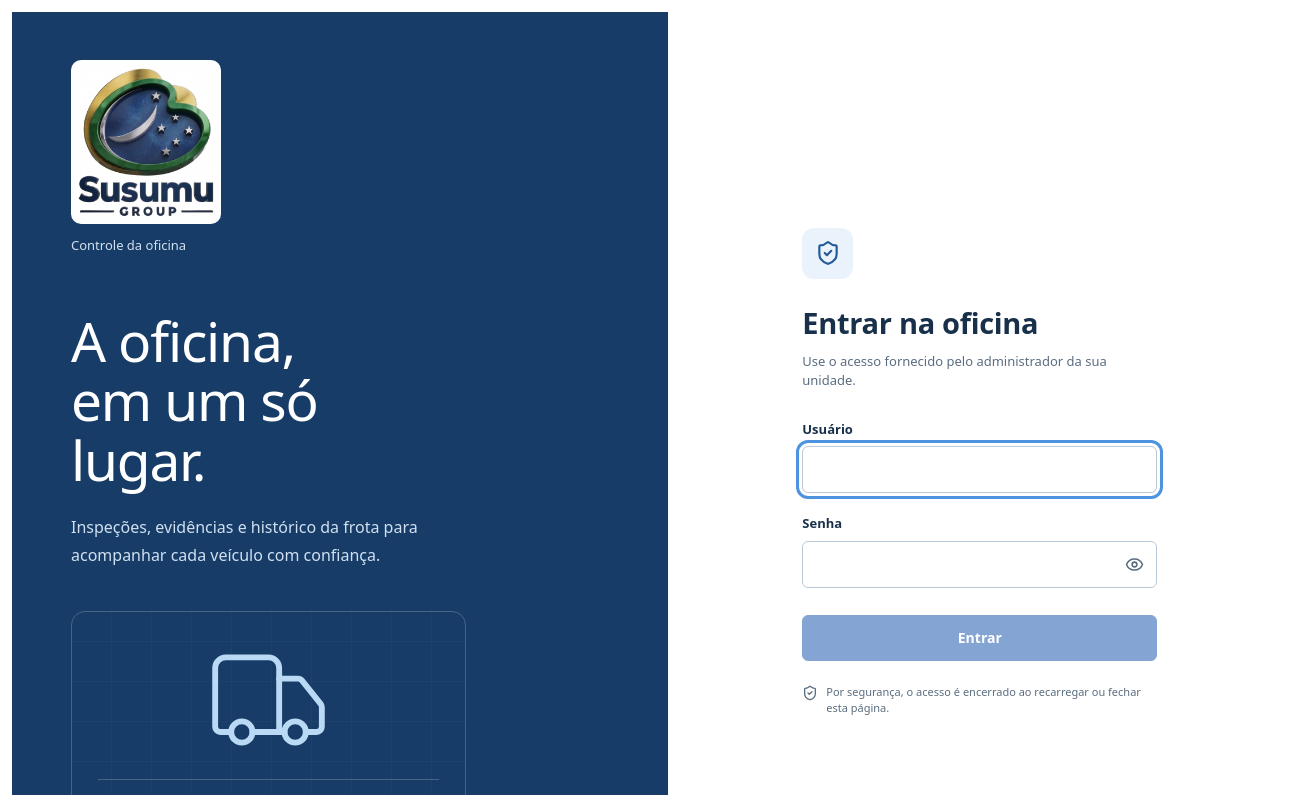
Test: correction discovery › warns an Office reader about a correction outside the newest hundred vehicle records
This screenshot has width=1304, height=795.
Type "office" into the field labelled "Usuário" at point(980, 470), box [802,446,1157,493]
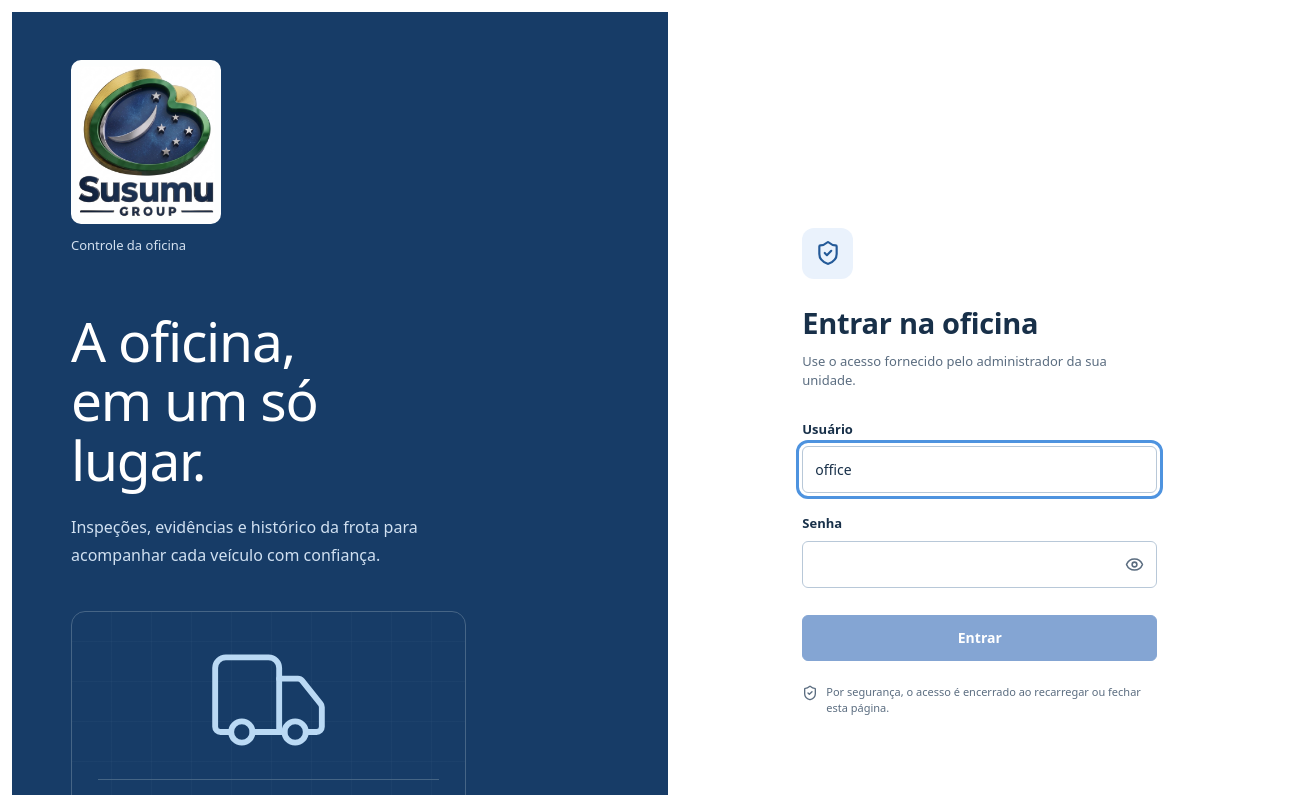
Type "test-only-password" into the password field labelled "Senha" at point(980, 564), box [802,541,1157,588]
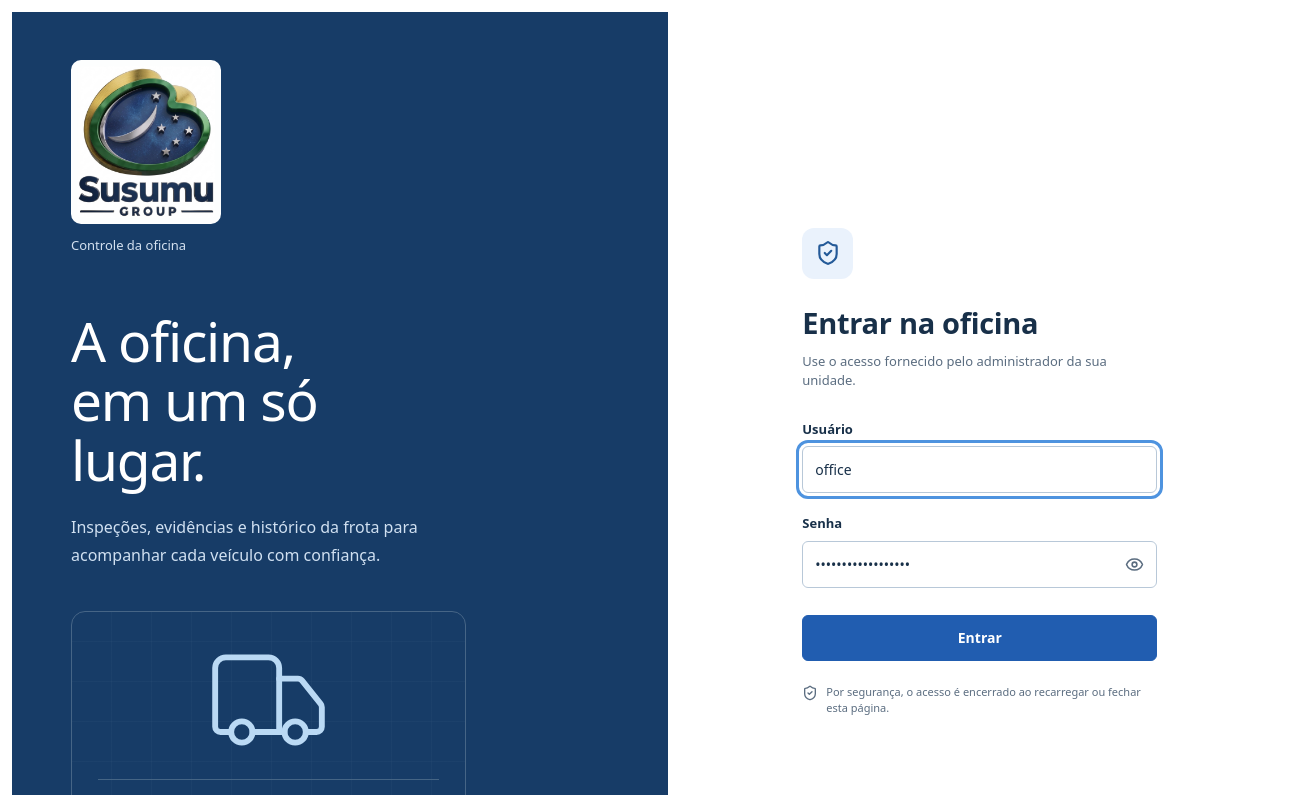
Click the button "Entrar" at point(980, 638), box [802,615,1157,661]
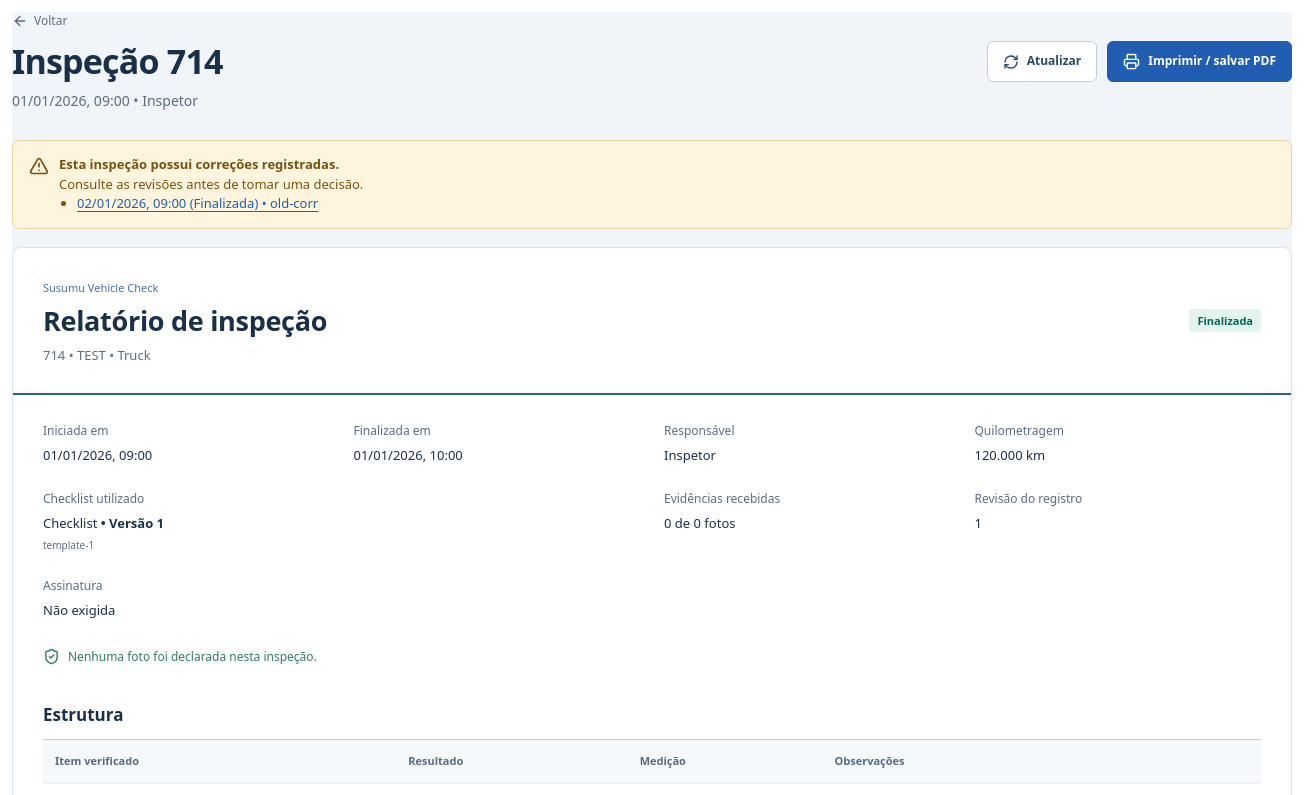
Check: the text "Esta inspeção possui correções registradas." is shown, box [59,155,339,173]
